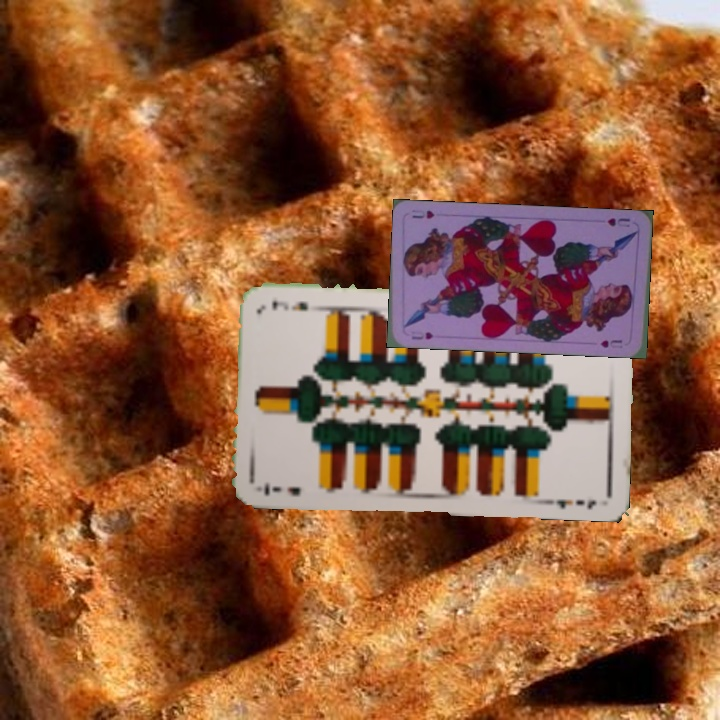E7: (261, 478, 303, 498)
HU: (603, 214, 632, 230), (408, 327, 436, 342)
